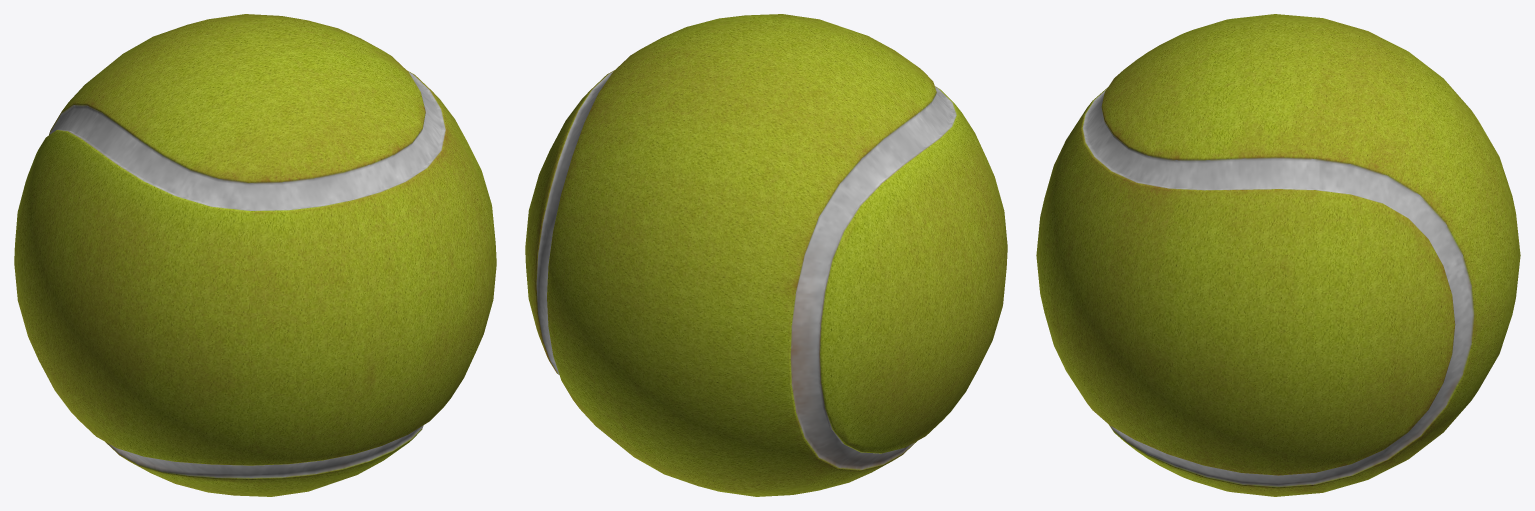
File: tennis_ball_low-poly_pbr.glb
The picture shows the model from 3 angles, left to right: view 1: azimuth 30°, elevation 25°; view 2: azimuth 150°, elevation 25°; view 3: azimuth 270°, elevation 25°; orthographic projection.
Parts seen in each view (by area): view 1: tennis_ball; view 2: tennis_ball; view 3: tennis_ball.
Part boxes in pixels (left/top/right/bottom): tennis_ball: left=14, top=14, right=496, bottom=496; tennis_ball: left=525, top=14, right=1007, bottom=496; tennis_ball: left=1036, top=14, right=1520, bottom=496.
Bounding box in the file's own units: 0.1703 × 0.1703 × 0.1703.
1 material, 1 textured.
